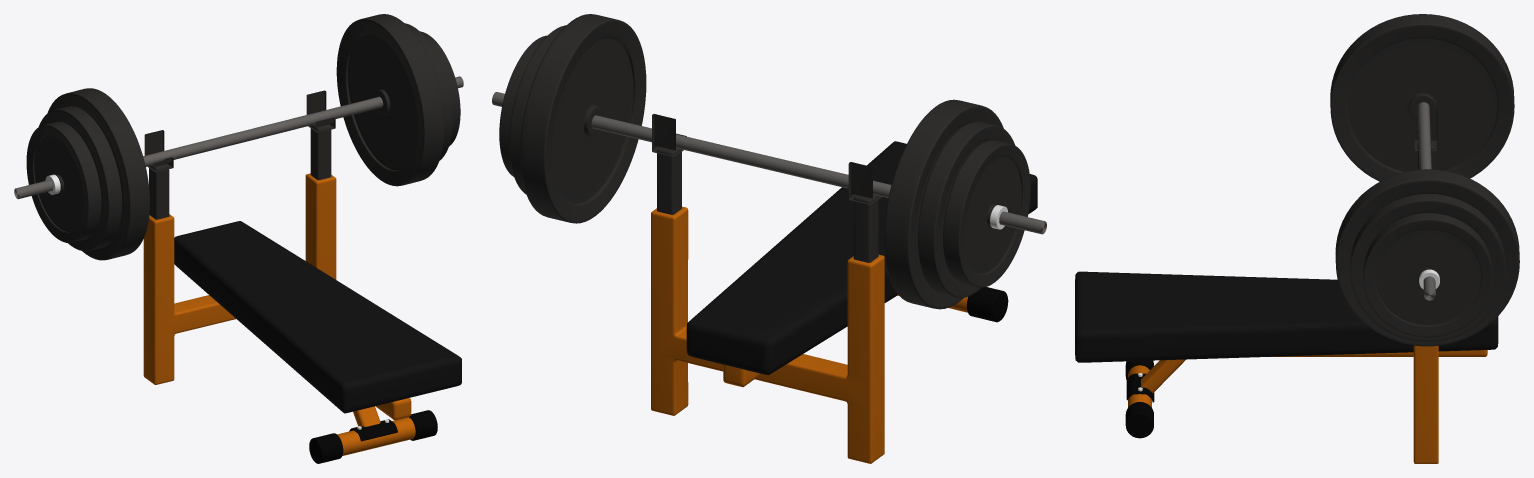
Rendered from Bench.fbx.
3 views of the same model, side by side, from view 1: azimuth 30°, elevation 25°; view 2: azimuth 150°, elevation 25°; view 3: azimuth 270°, elevation 25° (orthographic). The views are drawn at different scales.
Parts seen in each view (by area): view 1: Cube.002, Circle.001, Cube.012, Circle.007, Circle.004, Circle.005, Cylinder, Cube.011, Cylinder.002, Cube.013, Cylinder.001, Circle.002 (+3 smaller); view 2: Circle.001, Cube.002, Cube.012, Circle.007, Circle.004, Circle.005, Cylinder, Cube.011, Circle.002, Cube.013, Circle.003, Cylinder.002; view 3: Cube.002, Circle.004, Circle.003, Circle.001, Circle.002, Cube.012, Cube.006, Cylinder, Cylinder.002.
Part boxes in pixels (x1,y1,x2,y2): Cube.002: [174, 221, 461, 413]; Circle.001: [336, 14, 444, 186]; Cube.012: [143, 173, 336, 384]; Circle.007: [26, 122, 101, 242]; Circle.004: [47, 88, 149, 260]; Circle.005: [38, 106, 122, 251]; Cylinder: [14, 76, 463, 199]; Cube.011: [149, 124, 331, 219]; Cylinder.002: [309, 410, 437, 463]; Cube.013: [144, 90, 335, 172]; Cylinder.001: [337, 417, 415, 455]; Circle.002: [405, 23, 452, 160]; Circle.001: [520, 14, 646, 223]; Cube.002: [686, 141, 1037, 375]; Cube.012: [651, 206, 884, 463]; Circle.007: [943, 140, 1030, 287]; Circle.004: [884, 99, 1003, 309]; Circle.005: [918, 121, 1015, 297]; Cylinder: [492, 92, 1046, 234]; Cube.011: [657, 147, 878, 262]; Circle.002: [509, 25, 565, 194]; Cube.013: [652, 114, 882, 205]; Circle.003: [499, 35, 546, 176]; Cylinder.002: [966, 287, 1008, 322]; Cube.002: [1075, 271, 1498, 362]; Circle.004: [1330, 14, 1514, 181]; Circle.003: [1363, 213, 1493, 337]; Circle.001: [1335, 169, 1519, 346]; Circle.002: [1350, 193, 1505, 341]; Cube.012: [1413, 345, 1438, 463]; Cube.006: [1141, 350, 1487, 392]; Cylinder: [1417, 102, 1435, 300]; Cylinder.002: [1125, 360, 1153, 438].
Size of the model in its own units: 683 by 437 by 548.
